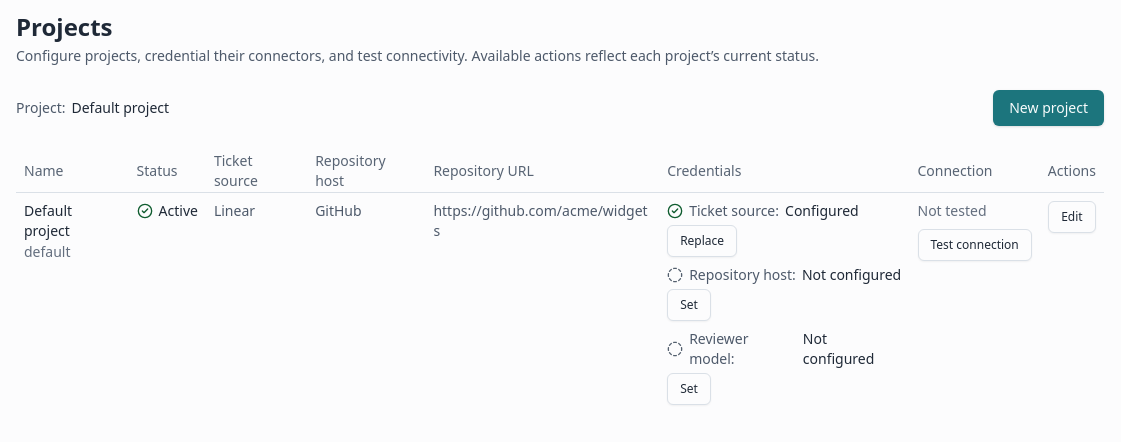
Test: ProjectsScreen › R4 — running a connection test updates the session last-test cell
Expected: the row with test id "project-row" is shown, [16,192,1104,413]
Expected: the text "Not tested" is shown, [918,201,986,220]
Click the button with test id "connection-test-button": (975, 245) [918,229,1032,261]
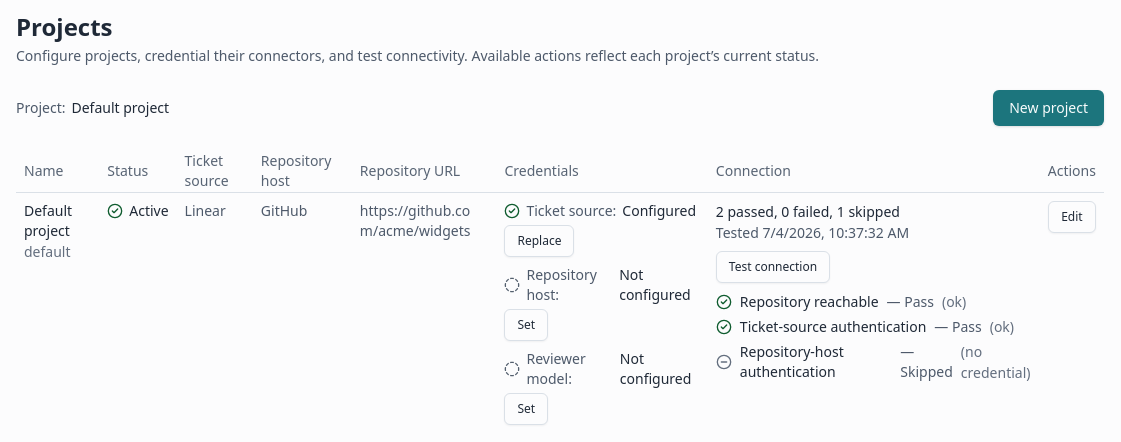
Expected: the element with test id "project-last-test" shows "2 passed, 0 failed, 1 skipped", [716,202,909,242]
